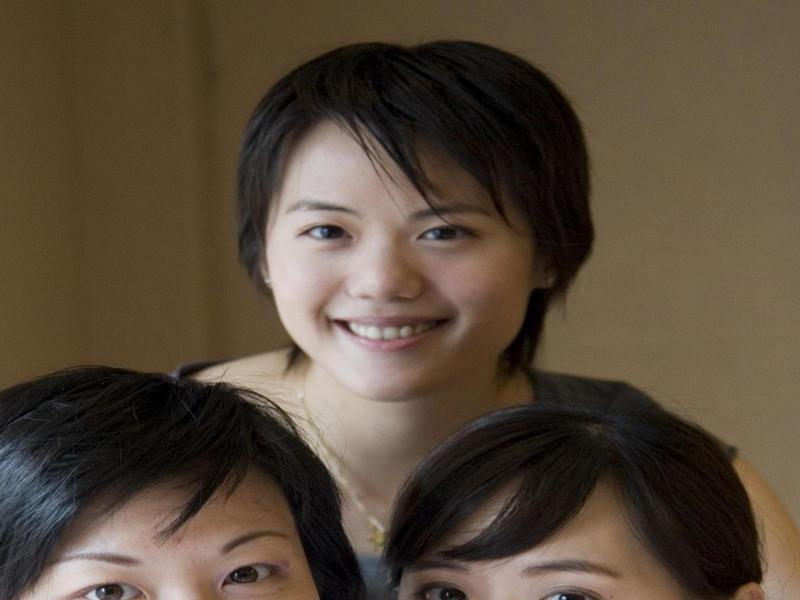person: (194, 43, 800, 600), (3, 362, 367, 600), (378, 400, 769, 600)
